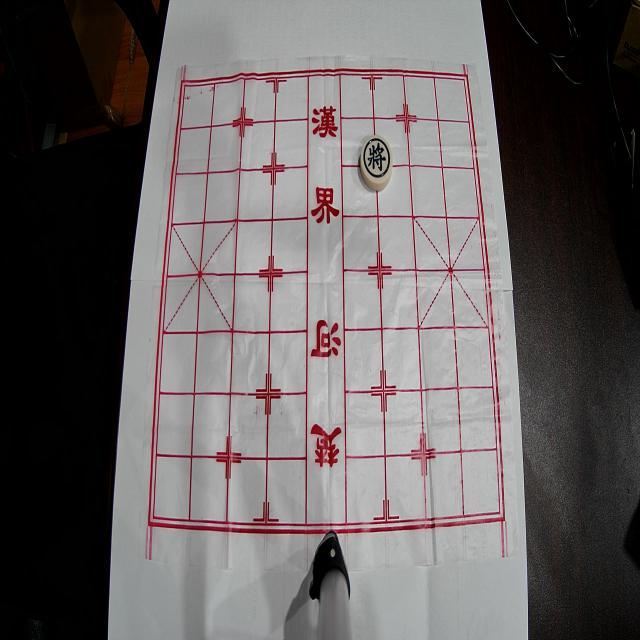black-general: (360, 135, 392, 190)
